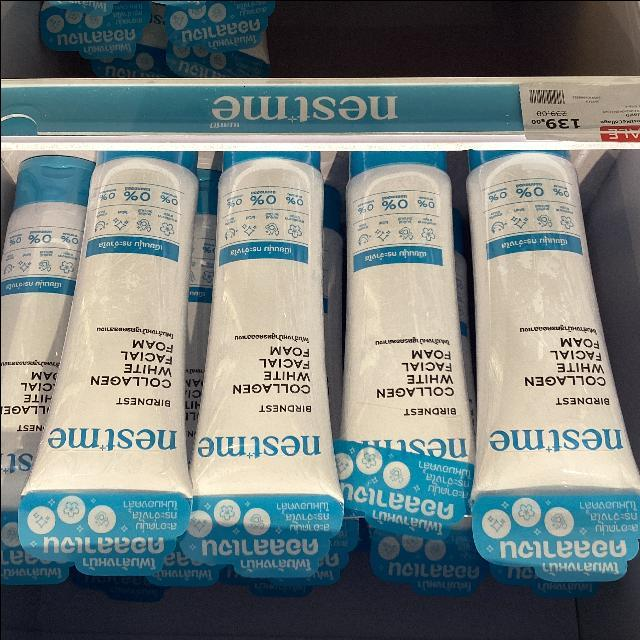Squeeze Tube: (4, 129, 640, 584), (10, 144, 203, 547), (464, 153, 639, 550), (181, 152, 341, 534), (329, 152, 481, 517)
